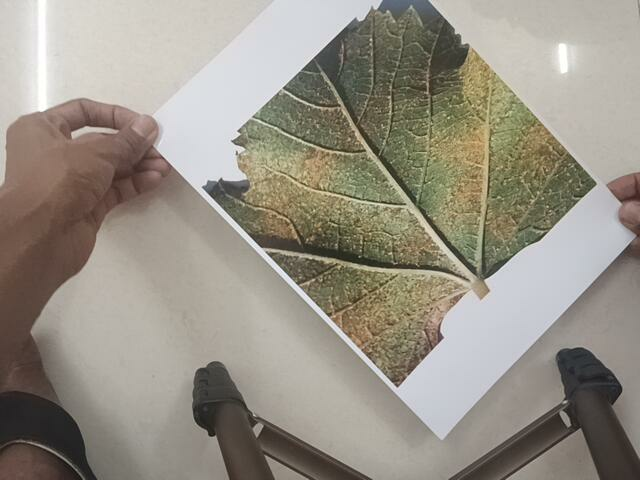Grape_Rust_Fungus: (231, 8, 593, 346)
